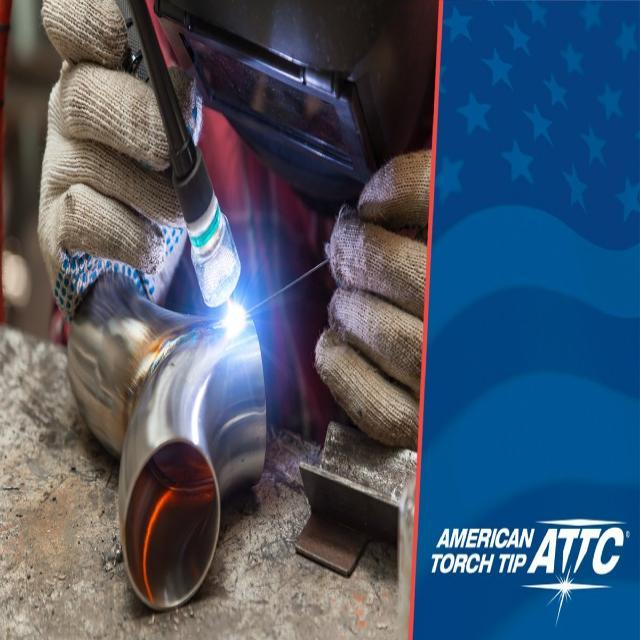with_helmet: (165, 0, 426, 186)
